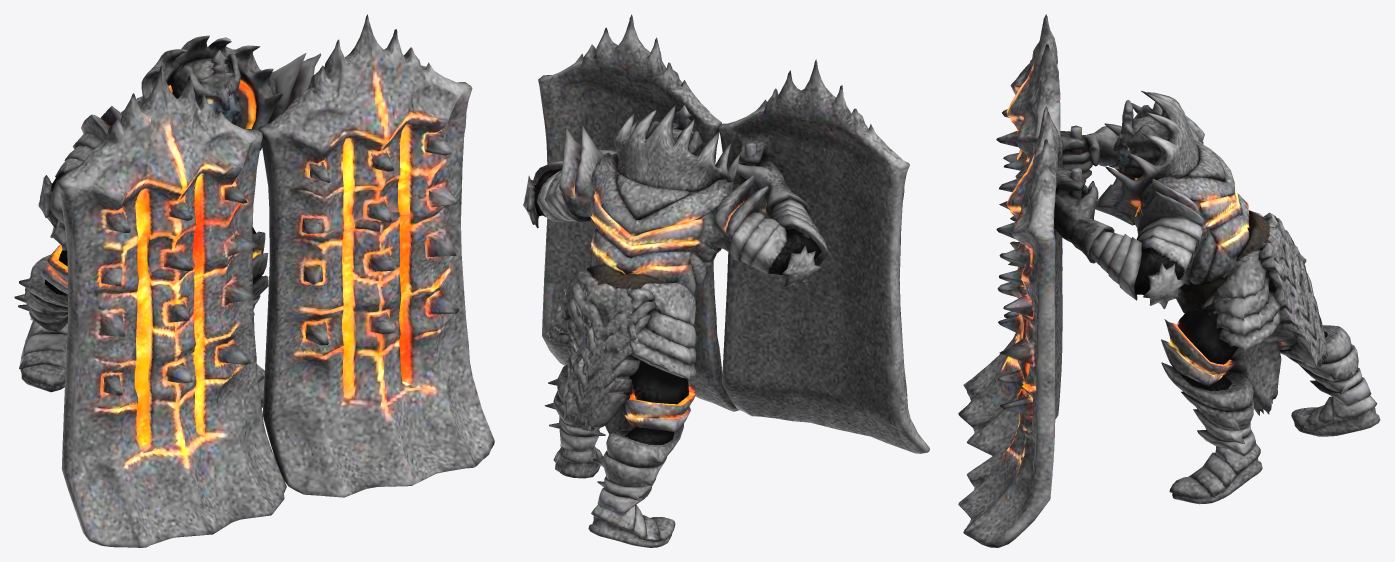
The model's file is MZ4250 - Fire Giant Dreadnought_Plow_25.glb.
The picture shows the model from 3 angles, left to right: view 1: azimuth 30°, elevation 25°; view 2: azimuth 150°, elevation 25°; view 3: azimuth 270°, elevation 25°; orthographic projection. The views are drawn at different scales.
Parts seen in each view (by area): view 1: Fire Giant Dreadnought.001; view 2: Fire Giant Dreadnought.001; view 3: Fire Giant Dreadnought.001.
Boxes of the visible parts, left/top/right/bottom form: Fire Giant Dreadnought.001: left=14, top=14, right=494, bottom=547; Fire Giant Dreadnought.001: left=523, top=14, right=929, bottom=547; Fire Giant Dreadnought.001: left=958, top=14, right=1380, bottom=547.
Size of the model in its own units: 254 by 260 by 247.
1 material, 1 textured.
